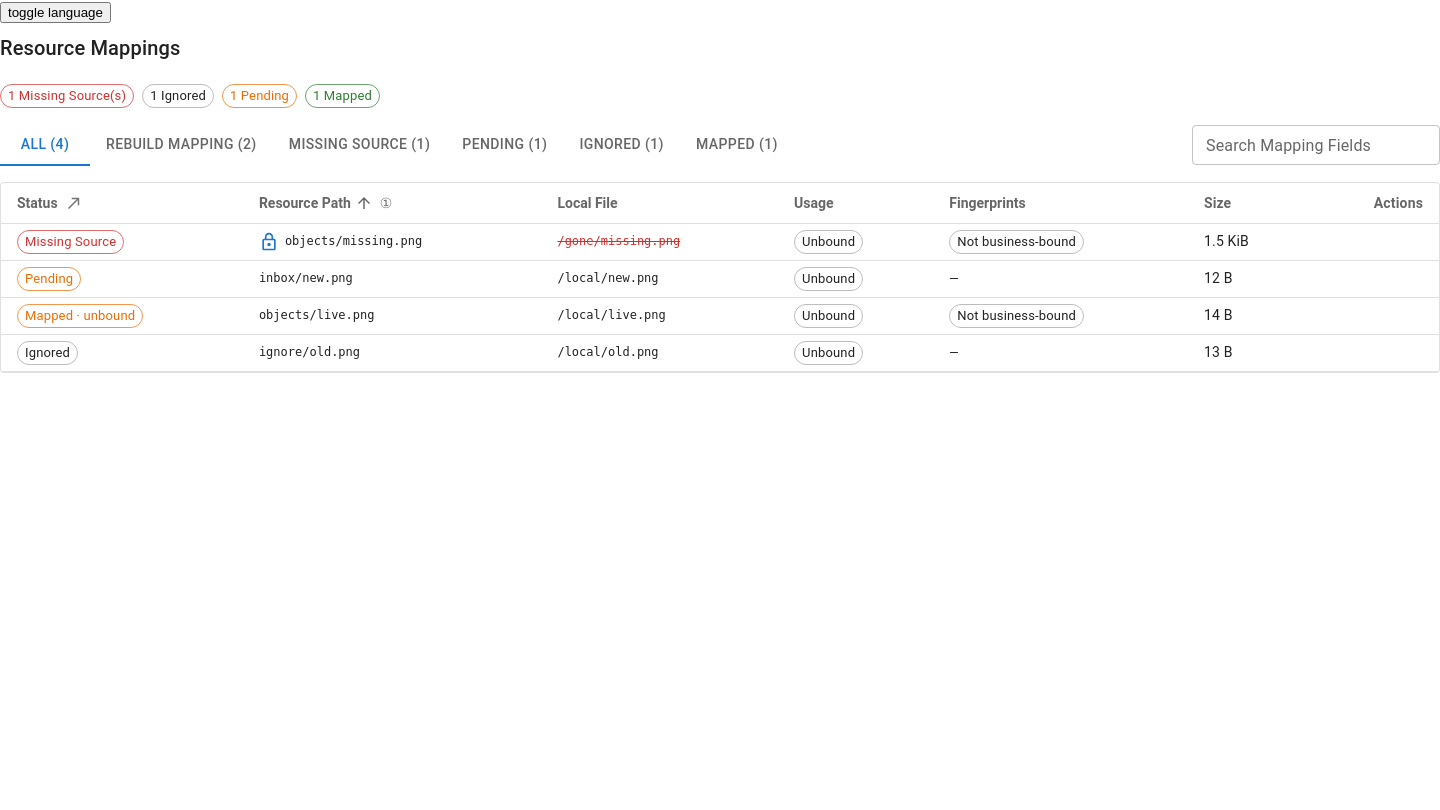
Test: passes selected rebuild inbox rows as preselected candidates and missing rows as fixed targets
expect the table is shown: met, box [1,182,1439,372]
Click the tab "Rebuild Mapping (2)".
click(181, 145)  # box [90,124,273,166]
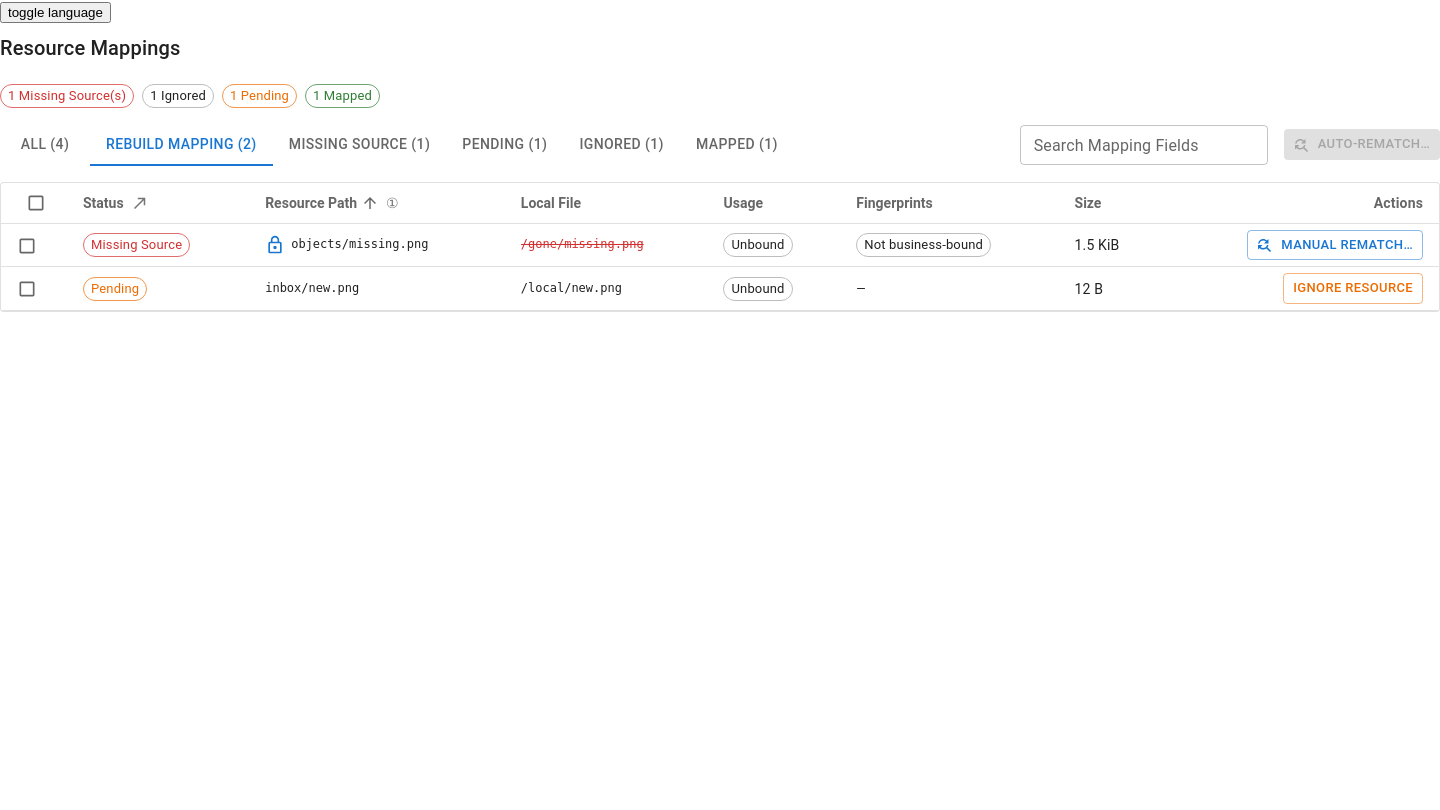
Click the checkbox named "Select objects/missing.png to rematch".
click(27, 246)  # box [17,236,37,256]
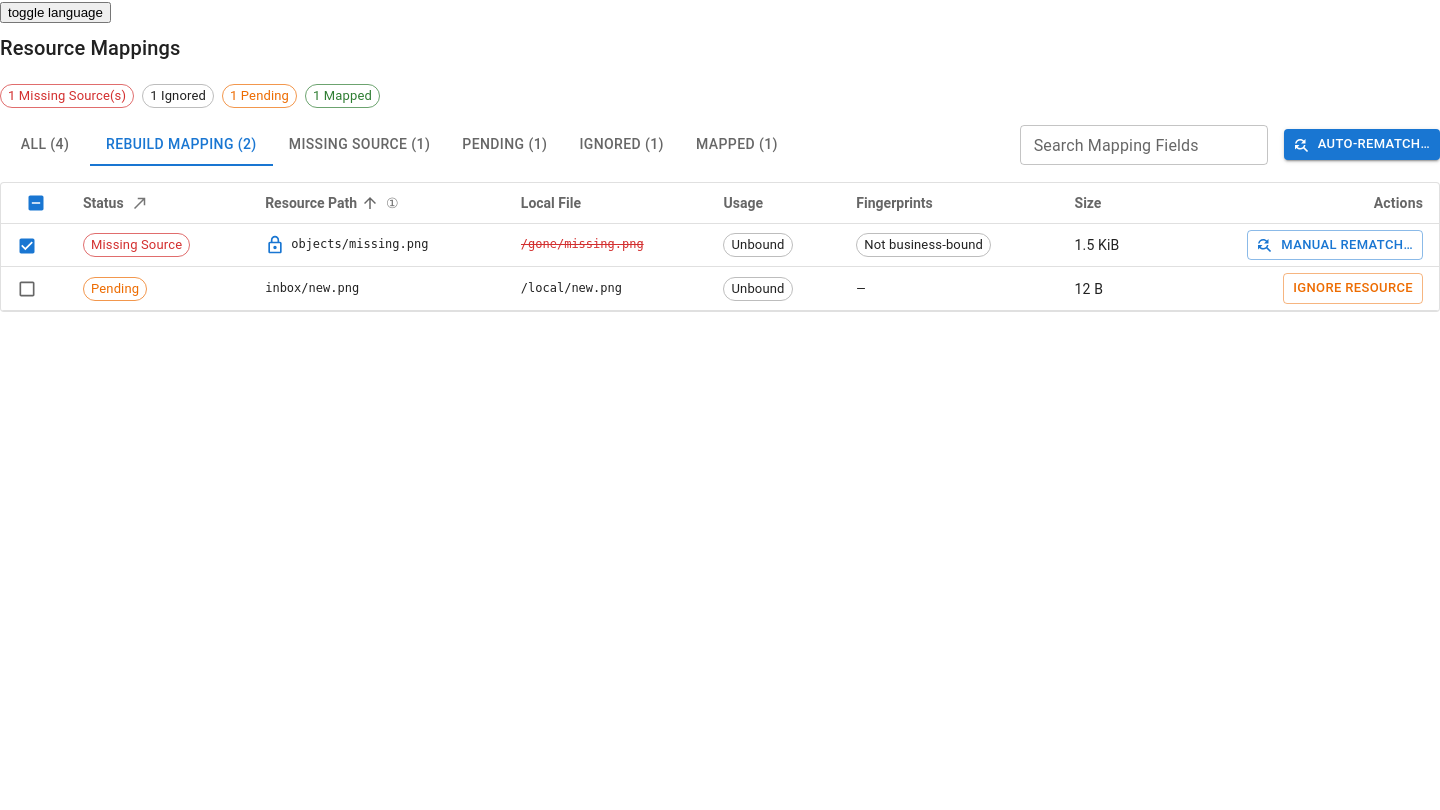
Click the checkbox named "Select inbox/new.png to rematch".
click(27, 289)  # box [17,279,37,299]
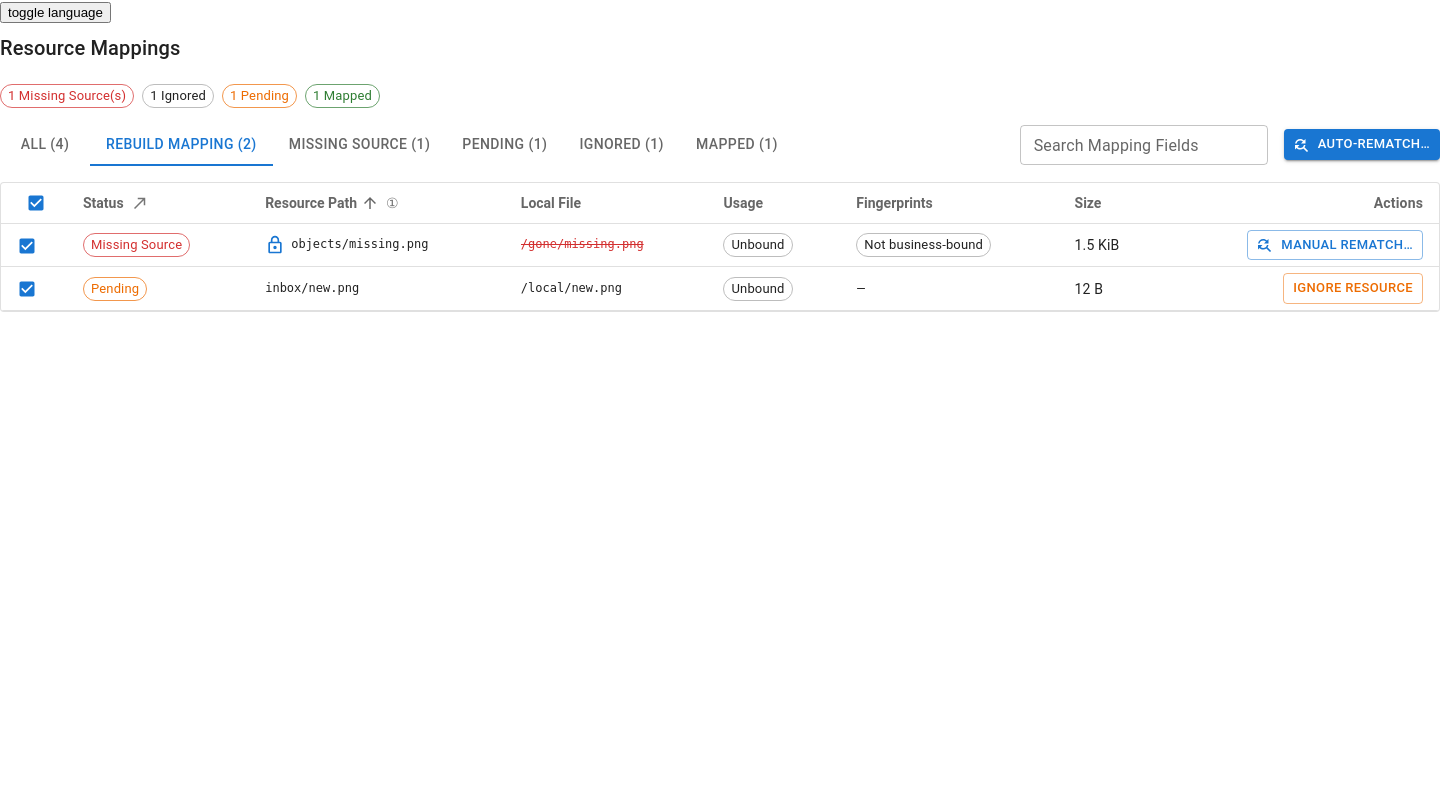
Click the button "Auto-rematch…".
click(1362, 145)  # box [1284,129,1439,160]
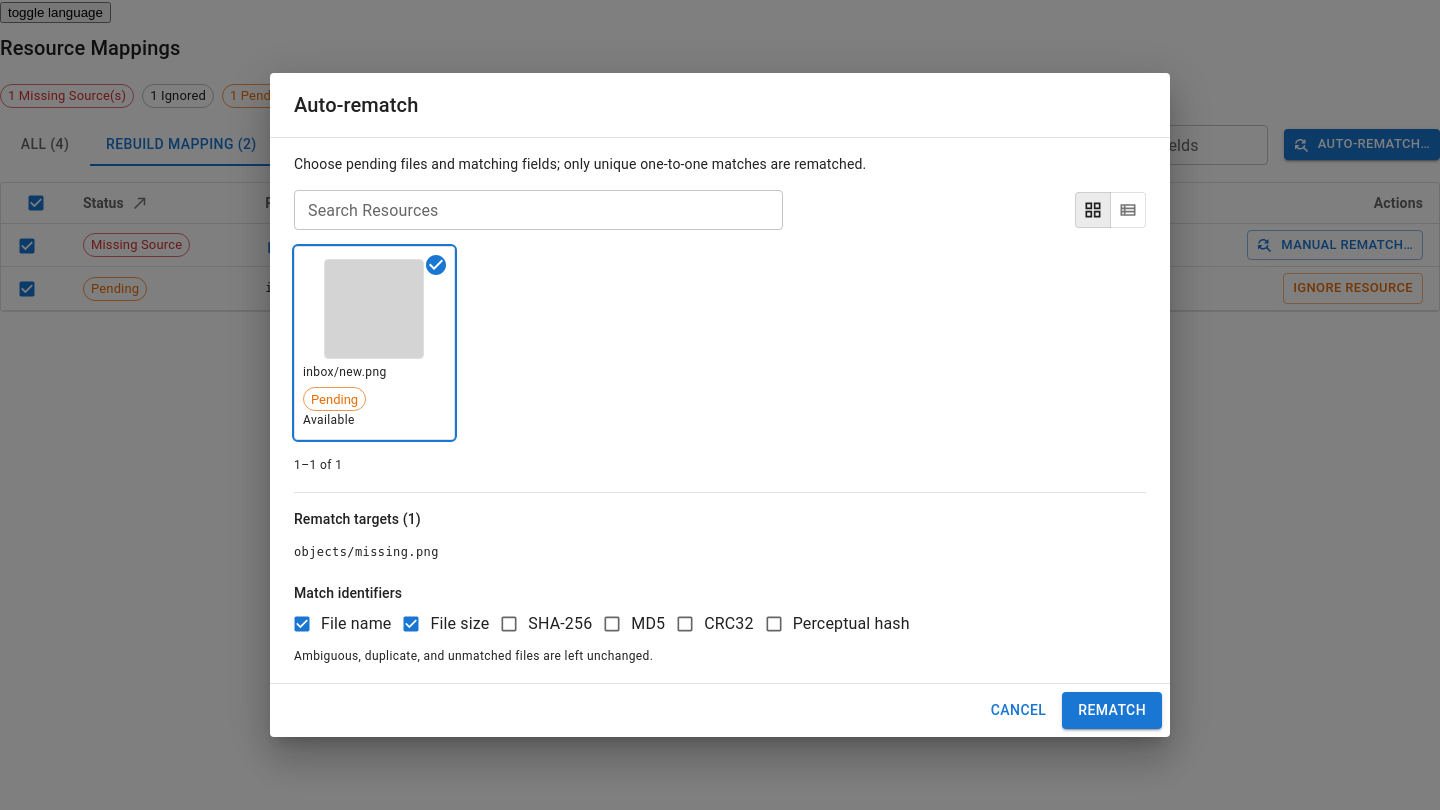
expect the text "objects/missing.png" is shown: met, box [294,545,439,559]
